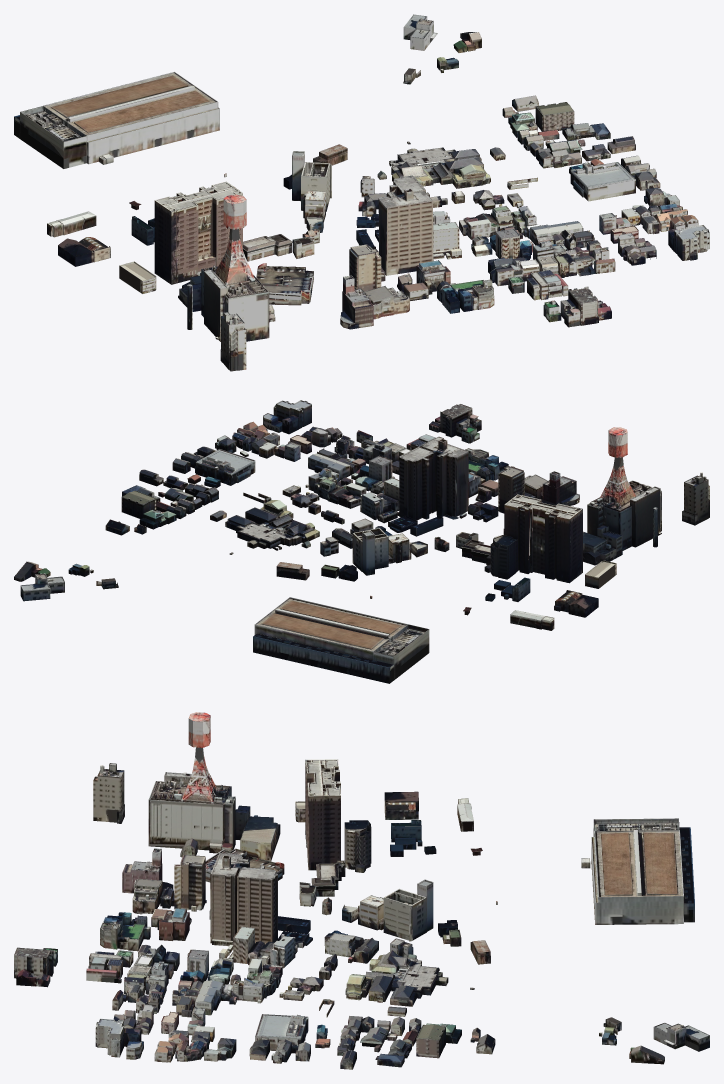
The model's file is lod3-station-7-2-packed.glb.
The picture shows the model from 3 angles, top to bottom: view 1: azimuth 30°, elevation 25°; view 2: azimuth 150°, elevation 25°; view 3: azimuth 270°, elevation 25°; orthographic projection. The views are drawn at different scales.
Size of the model in its own units: 374 by 81.59 by 408.
Materials: 28 (27 with a texture image).
